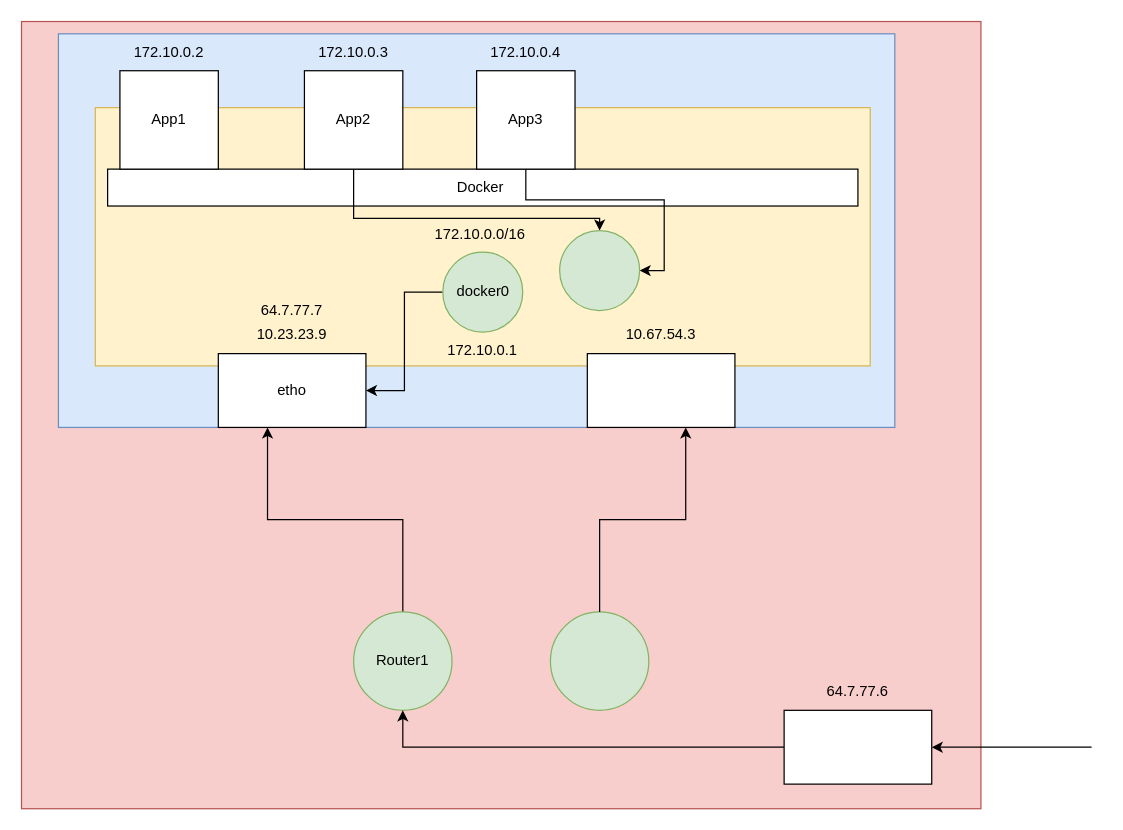
This 1123x830 diagram has some shape labels left out. The shapes that lost their labels are listed below. From the top down, each one's centre as x and y in pixels, then its label:
At (x=599, y=270): "root".
At (x=660, y=389): "eth1".
At (x=599, y=660): "Router 2".
At (x=857, y=746): "PUBLIC IP POOL".
